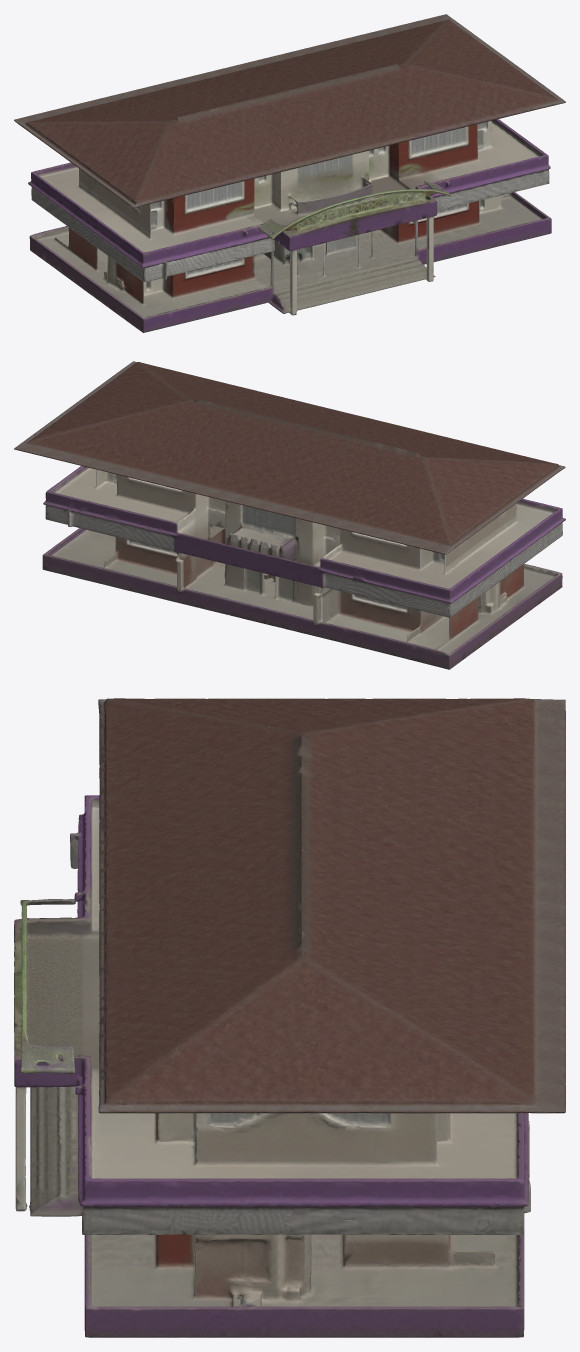
The model's file is bid_12.glb.
3 renders of one model, top to bottom at view 1: azimuth 30°, elevation 25°; view 2: azimuth 150°, elevation 25°; view 3: azimuth 270°, elevation 25°, orthographic. The views are drawn at different scales.
Parts seen in each view (by area): view 1: mesh_node; view 2: mesh_node; view 3: mesh_node.
Boxes of the visible parts, x1,y1,x2,y2 form: mesh_node: (14, 14, 565, 332); mesh_node: (14, 361, 565, 669); mesh_node: (14, 698, 565, 1337).
Size of the model in its own units: 1.87 by 0.6398 by 1.06.
1 material, 1 textured.
